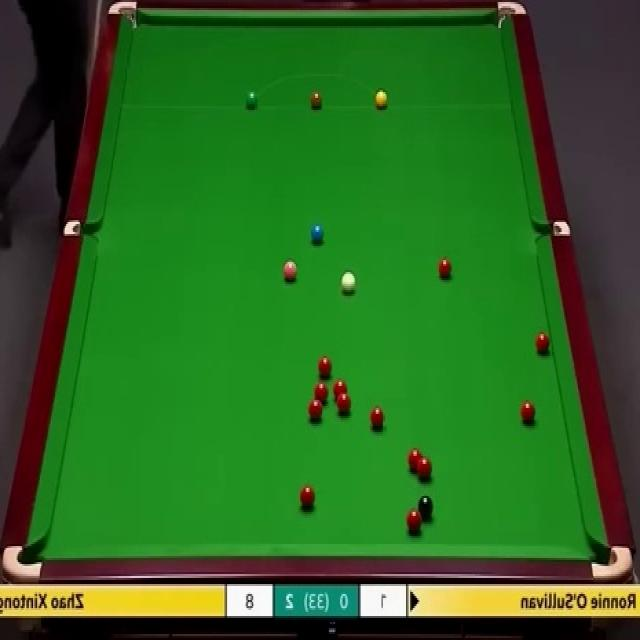black-ball: (417, 495, 432, 519)
blue-ball: (310, 223, 324, 246)
brown-ball: (310, 90, 323, 109)
green-ball: (246, 90, 259, 109)
pink-ball: (282, 262, 298, 284)
red-ball: (521, 398, 538, 423), (316, 354, 332, 380), (416, 456, 432, 480), (309, 396, 323, 421), (407, 509, 422, 532), (300, 485, 313, 511), (536, 331, 550, 355), (371, 404, 385, 428), (408, 448, 422, 471), (335, 394, 350, 415), (333, 378, 348, 399), (314, 381, 328, 403), (438, 260, 452, 278)
white-ball: (341, 271, 356, 295)
yellow-ball: (375, 90, 388, 109)
